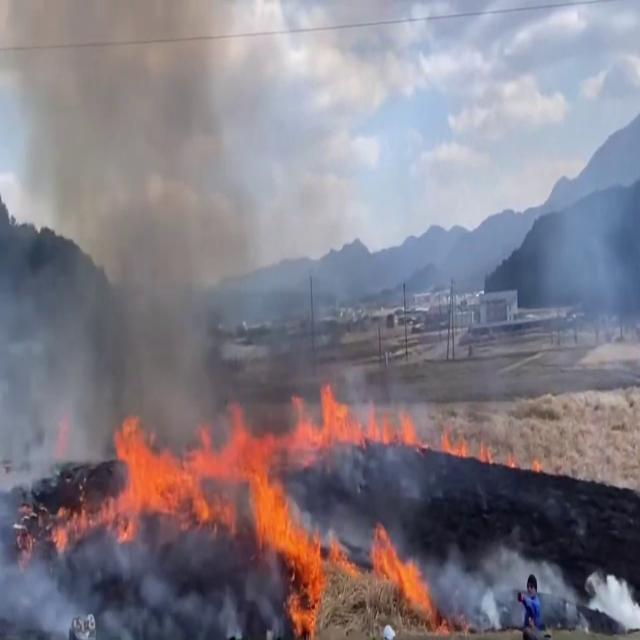Fire: (90, 400, 290, 522), (240, 464, 360, 624), (300, 385, 486, 457), (371, 516, 432, 626)
Smoke: (0, 1, 274, 457), (525, 116, 640, 410), (437, 532, 570, 632)
